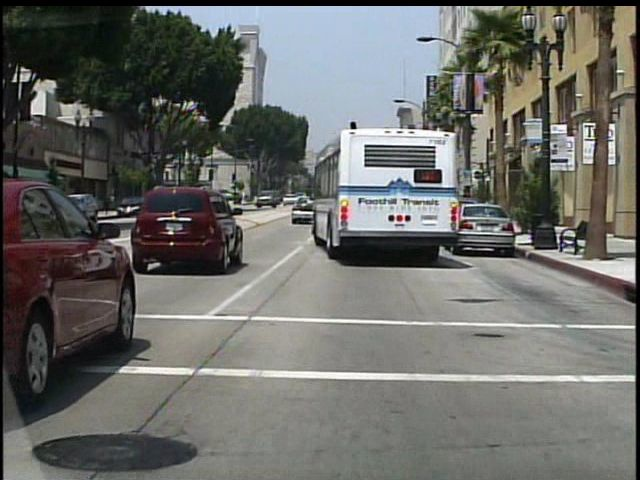person: (466, 185, 479, 227)
